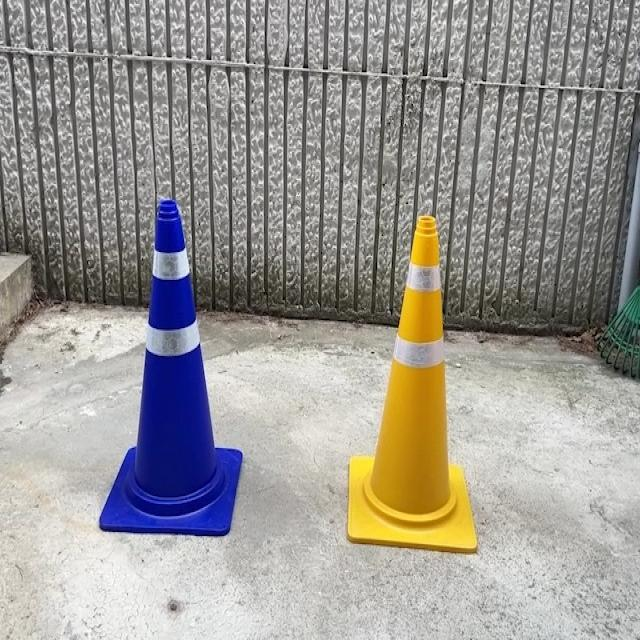b_rub: (98, 200, 243, 535)
y_rub: (347, 217, 479, 549)
